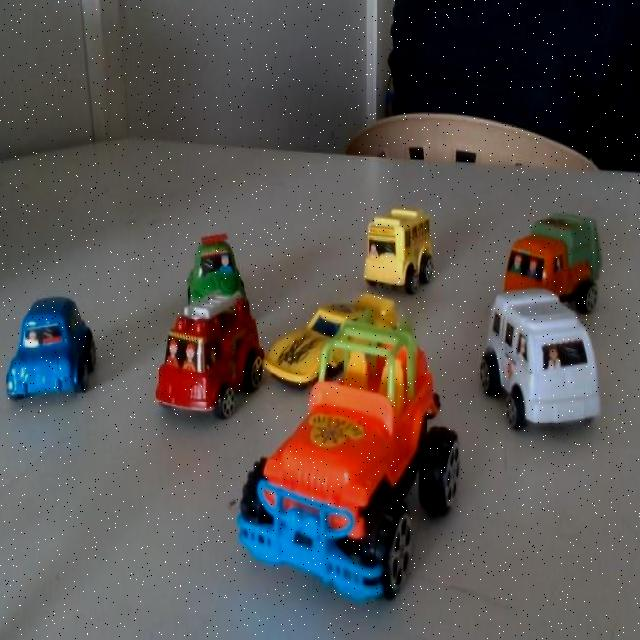car: (230, 406, 390, 606), (255, 277, 401, 419), (0, 286, 100, 423), (484, 305, 591, 420), (151, 296, 241, 430), (494, 206, 589, 321), (173, 235, 244, 333), (354, 200, 419, 291)
